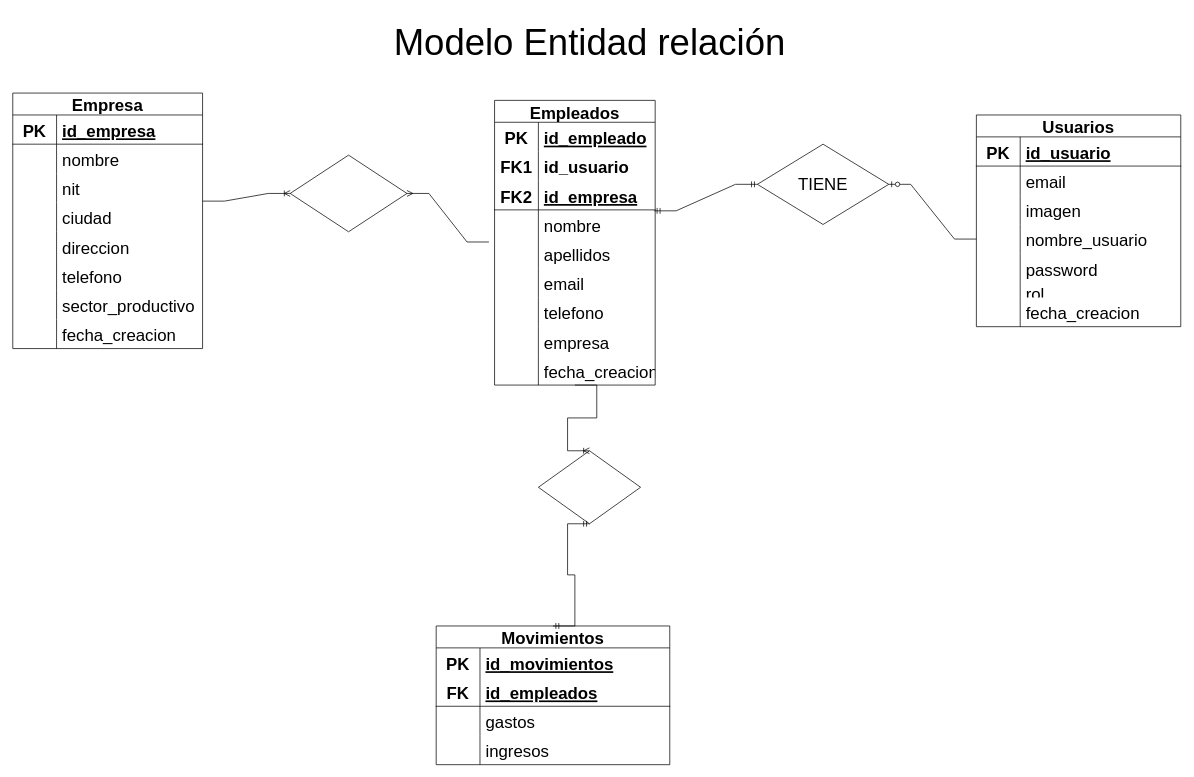
Image size: 1194x777. Some labels were removed from this diagram. Here are the shapes that lost their labels. From the top down, the box of each, then its label:
(289, 154, 407, 232): TRABAJA
(538, 450, 641, 524): REALIZA
